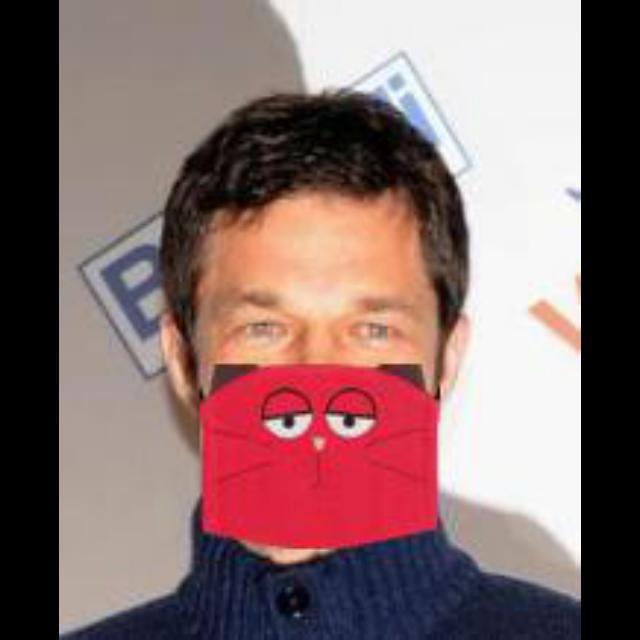suspicion: (137, 76, 489, 574)
